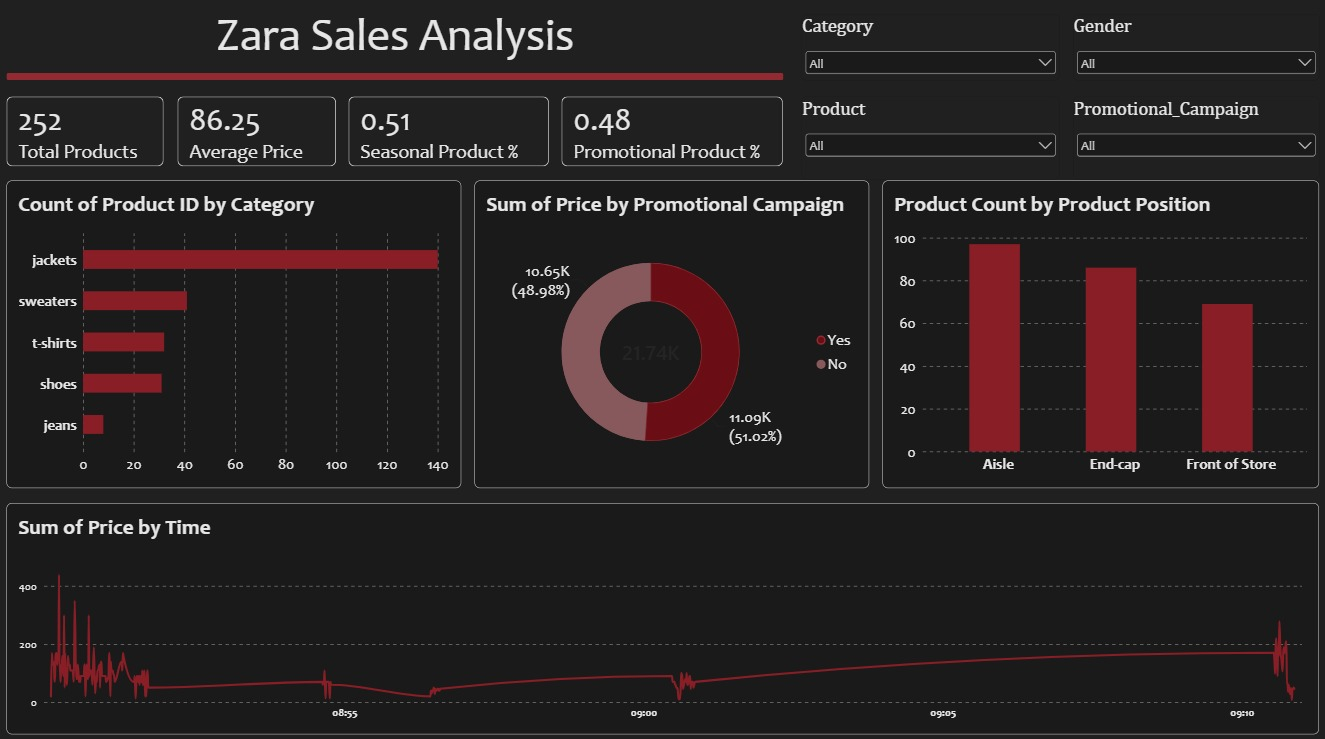

Layout of this report page (visuals, bound fields, positions):
{"tool":"powerbi","page":{"name":"Cards","canvas":[1920,1080],"ordinal":0},"visuals":[{"type":"cardVisual","fields":{"Data":["zara.Total Products"]},"box":[19.1,147.9,226.7,119.3],"z":0},{"type":"cardVisual","fields":{"Data":["zara.Average Price"]},"box":[264.8,147.9,226.7,119.3],"z":1000},{"type":"cardVisual","fields":{"Data":["zara.Seasonal Product %"]},"box":[508.2,147.9,288.7,119.3],"z":2000},{"type":"cardVisual","fields":{"Data":["zara.Promotional Product %"]},"box":[813.6,147.9,319.7,119.3],"z":3000},{"type":"barChart","fields":{"Y":["CountNonNull(zara.Product ID)"],"Category":["zara.Category"]},"box":[19.1,286.3,651.4,422.3],"z":4000},{"type":"lineChart","title":"Sum of Price by Time","fields":{"Category":["zara.scraped_at.Variation.Date Hierarchy.Day"],"Y":["Sum(zara.Price)"]},"box":[19.1,730.1,1880.1,331.6],"z":5000},{"type":"donutChart","fields":{"Category":["zara.Promotional Campaign"],"Y":["Sum(zara.Price)"]},"box":[689.5,286.3,565.5,422.3],"z":6000},{"type":"columnChart","fields":{"Category":["zara.Product Position"],"Y":["zara.Product Count"]},"box":[1274.1,286.3,625.1,422.3],"z":7000},{"type":"shape","title":"Zara Sales Analysis","box":[19.1,19.1,1114.2,107.4],"z":8000},{"type":"slicer","title":"Product","fields":{"Values":["zara.Product Name"]},"box":[1157.2,147.9,369.8,119.3],"z":9000},{"type":"slicer","title":"Promotional_Campaign","fields":{"Values":["zara.Promotional Campaign"]},"box":[1546.1,147.9,353.1,119.3],"z":9001},{"type":"slicer","title":"Category","fields":{"Values":["zara.Category"]},"box":[1157.2,31,369.8,95.4],"z":9002},{"type":"slicer","title":"Gender","fields":{"Values":["zara.section"]},"box":[1546.1,31,353.1,95.4],"z":9003}]}

Visuals, with their boxes in screenshot pixels (x1, y1, x2, y2), scaled from the page's 1920x1080 canvas onto the 1325x739 screenshot:
cardVisual - zara.Total Products: rect(13, 101, 170, 183)
cardVisual - zara.Average Price: rect(183, 101, 339, 183)
cardVisual - zara.Seasonal Product %: rect(351, 101, 550, 183)
cardVisual - zara.Promotional Product %: rect(561, 101, 782, 183)
barChart - CountNonNull(zara.Product ID) x zara.Category: rect(13, 196, 463, 485)
"Sum of Price by Time" lineChart: rect(13, 500, 1311, 726)
donutChart - zara.Promotional Campaign x Sum(zara.Price): rect(476, 196, 866, 485)
columnChart - zara.Product Position x zara.Product Count: rect(879, 196, 1311, 485)
"Zara Sales Analysis" shape: rect(13, 13, 782, 87)
"Product" slicer: rect(799, 101, 1054, 183)
"Promotional_Campaign" slicer: rect(1067, 101, 1311, 183)
"Category" slicer: rect(799, 21, 1054, 86)
"Gender" slicer: rect(1067, 21, 1311, 86)
